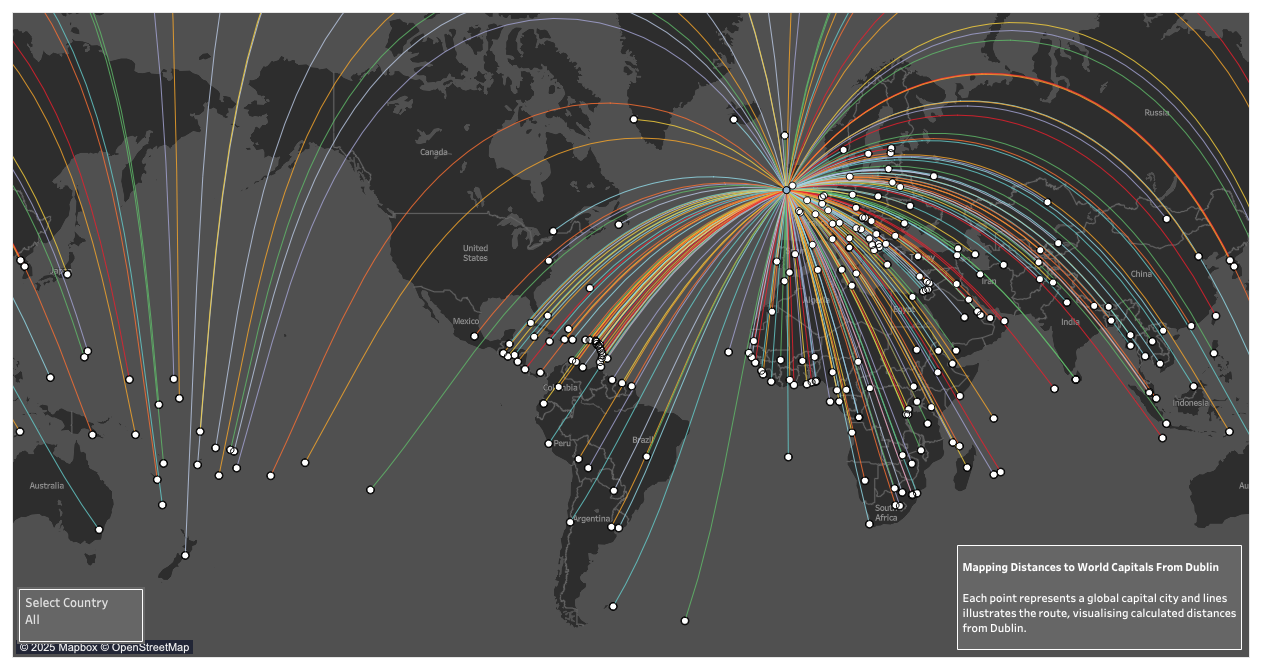

What the dashboard file says about the page in this screenshot:
{"tool":"tableau","page":{"name":"Dashboard 2","canvas":[1262,670],"ordinal":0},"visuals":[{"type":"worksheet","title":"Sheet 2","mark":"Multipolygon","box":[8,8,1246,654]},{"type":"text","box":[955,543,289,109]},{"type":"filter","title":"Sheet 2","param":"[federated.1f5z6vm0lrnph51f23ehv0594v82].[none:country:nk]","box":[15,585,132,61]}]}

Visuals, with their boxes in screenshot pixels (x1, y1, x2, y2), scaled from the page's 1262x670 canvas onto the 1262x670 screenshot:
"Sheet 2" worksheet (Multipolygon marks): {"left": 8, "top": 8, "right": 1254, "bottom": 662}
text: {"left": 955, "top": 543, "right": 1244, "bottom": 652}
"Sheet 2" filter: {"left": 15, "top": 585, "right": 147, "bottom": 646}
